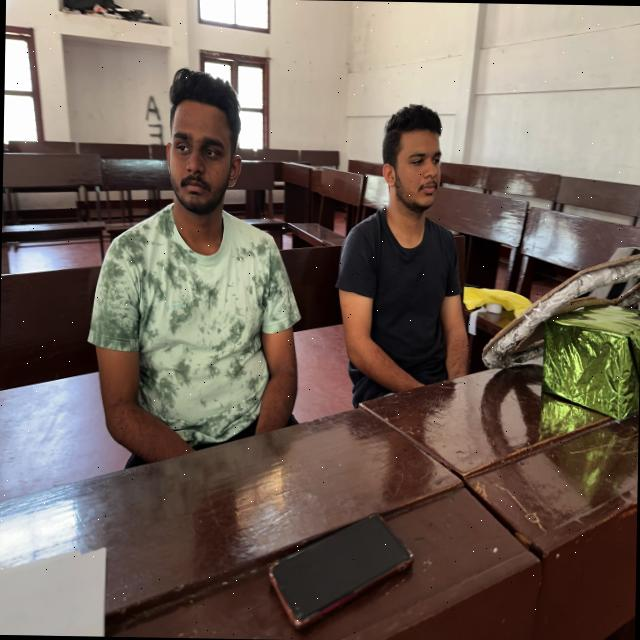Helmet: (82, 210, 304, 483), (331, 209, 468, 429)
